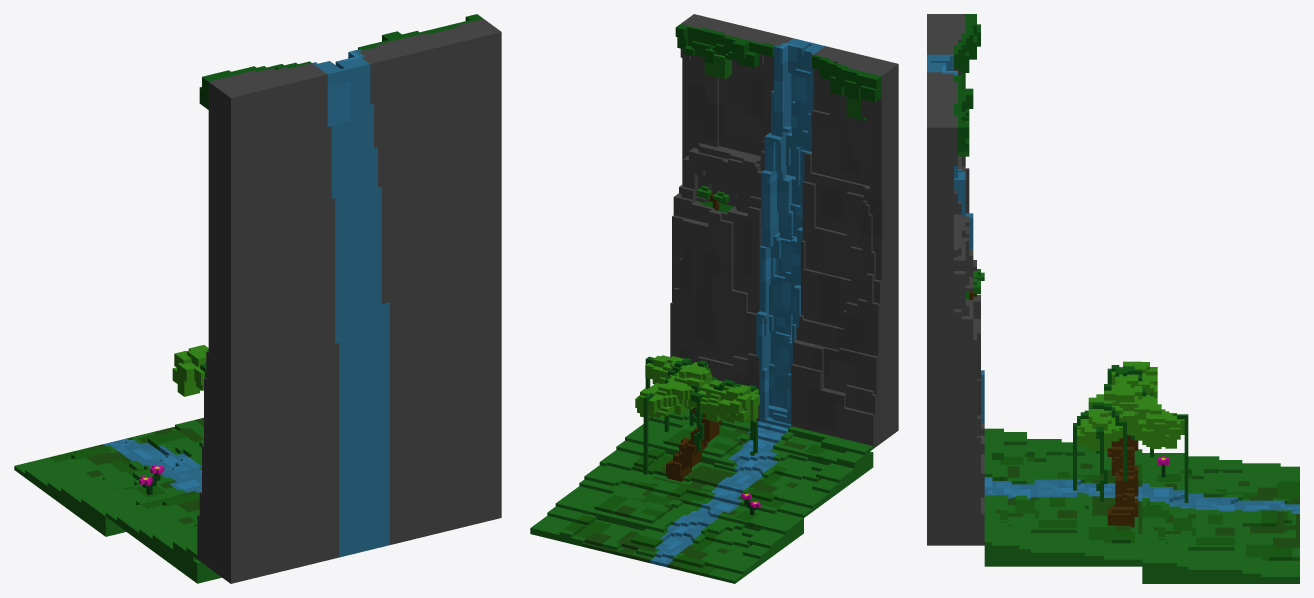
Rendered from river_s_02.obj.
3 renders of one model, left to right at view 1: azimuth 30°, elevation 25°; view 2: azimuth 150°, elevation 25°; view 3: azimuth 270°, elevation 25°, orthographic. The views are drawn at different scales.
Bounding box in the file's own units: 7 × 13.1 × 9.7.
Materials: 1 (1 with a texture image).
